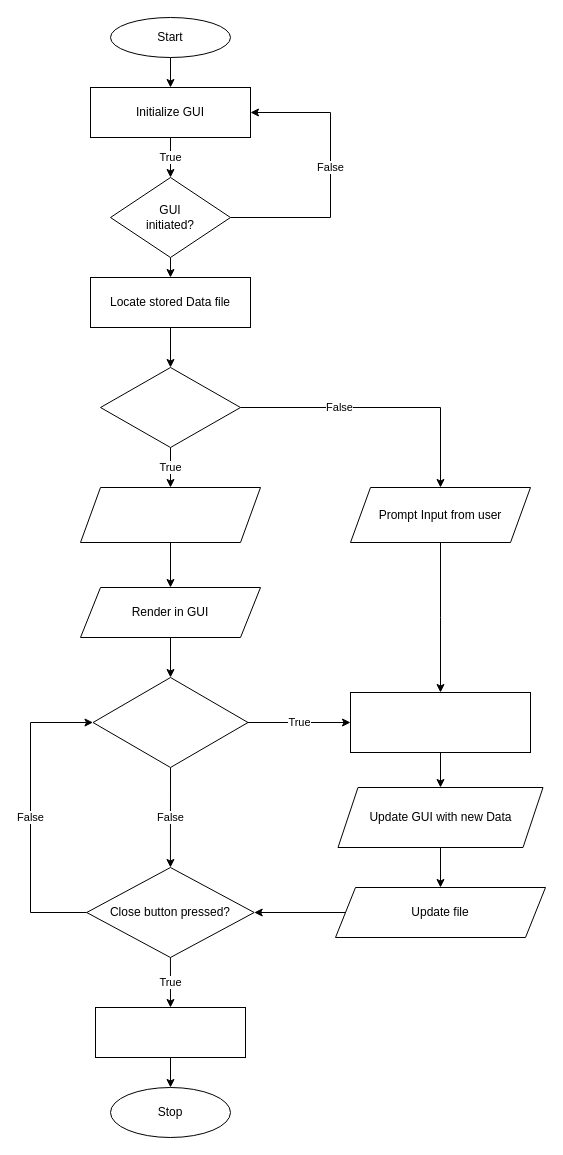
The diagram is 563 pixels wide and 1155 high, and some of its shapes have lost their labels. Each missing label, with the centre of its shape:
"Calculate next period date" goes at (440,722).
"Destroy GUI context" goes at (170,1032).
"File found?" goes at (170,407).
"Reset button pressed?" goes at (170,722).
"Retrieve Data from file" goes at (170,514).
